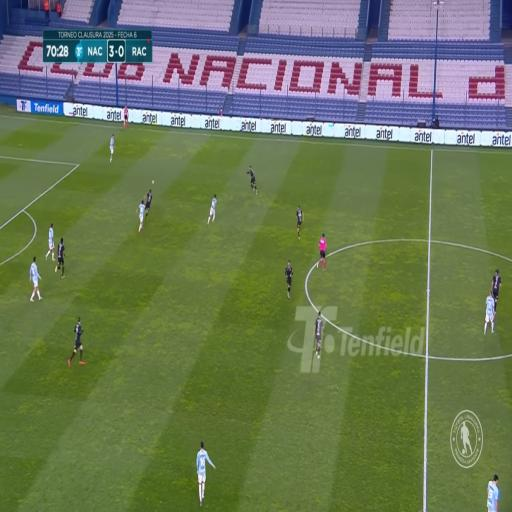Ball: (151, 178, 155, 187)
Player: (195, 444, 212, 505), (312, 307, 327, 364), (71, 314, 84, 369), (486, 468, 502, 512), (482, 292, 496, 338), (243, 161, 260, 197), (55, 233, 67, 279), (30, 255, 41, 305), (284, 258, 294, 309), (134, 196, 147, 232), (490, 262, 500, 307), (205, 194, 219, 224), (294, 203, 304, 240), (47, 223, 56, 263), (144, 185, 152, 221), (110, 132, 114, 166)
Referee: (316, 232, 328, 272), (122, 105, 130, 128)
